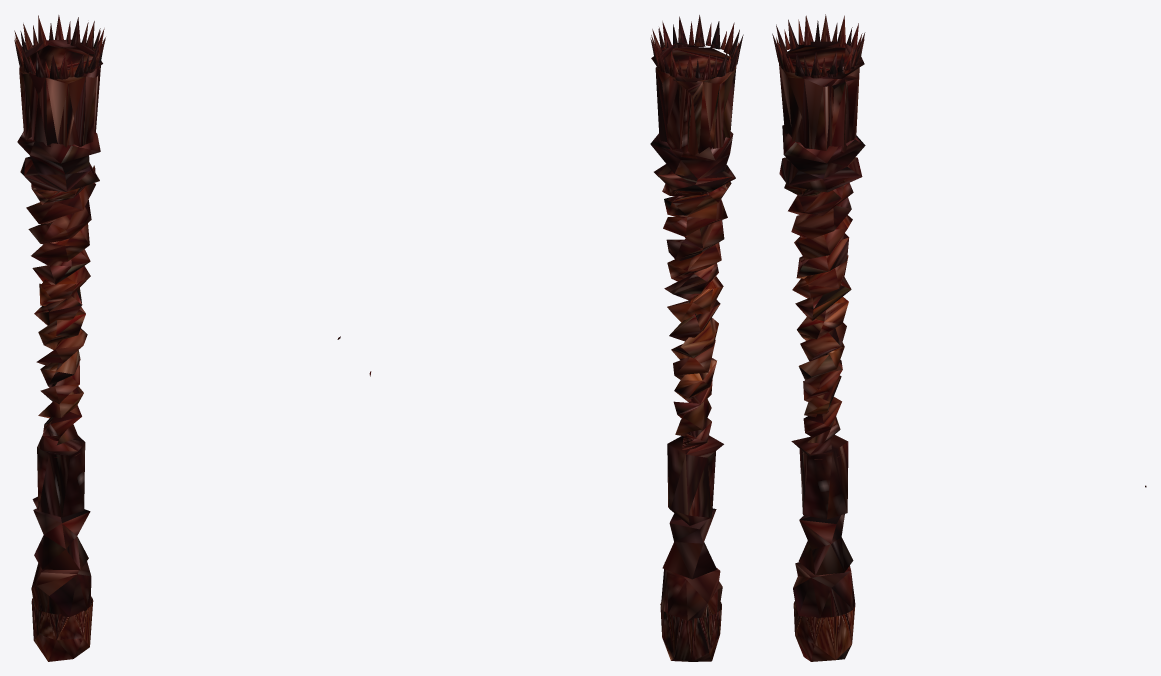
The model's file is antorcha2.obj.
The picture shows the model from 3 angles, left to right: view 1: azimuth 30°, elevation 25°; view 2: azimuth 150°, elevation 25°; view 3: azimuth 330°, elevation 25°; orthographic projection.
Visible parts, largest first — view 1: antorchaInclinadaO_002; view 2: antorchaInclinadaO_002; view 3: antorchaInclinadaO_002.
Boxes of the visible parts, x1,y1,x2,y2 form: antorchaInclinadaO_002: [14, 15, 340, 661]; antorchaInclinadaO_002: [369, 15, 743, 661]; antorchaInclinadaO_002: [772, 14, 1146, 661].
Size of the model in its own units: 2.15 by 3.74 by 0.5139.
1 material, 1 textured.
